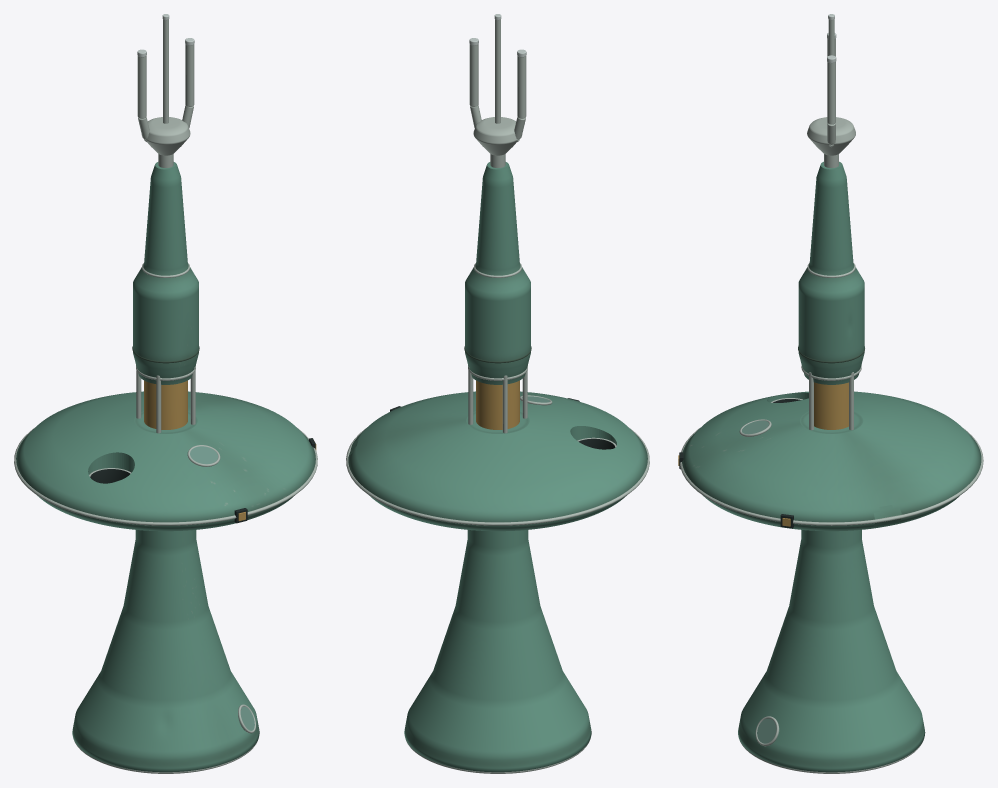
3 views of the same model, side by side, from view 1: azimuth 30°, elevation 25°; view 2: azimuth 150°, elevation 25°; view 3: azimuth 270°, elevation 25° (orthographic).
Visible parts, largest first — view 1: RI07 broad laboratory saucer, RI07 flared mounting pedestal, RI07 segmented green mast, RI07 solid exposed brass neck, RI07 saucer perimeter seam, RI07 silver crown fork bowl, RI07 silver central conductor, RI07 silver outer conductor.002, RI07 silver outer conductor.005; view 2: RI07 broad laboratory saucer, RI07 flared mounting pedestal, RI07 segmented green mast, RI07 solid exposed brass neck, RI07 saucer perimeter seam, RI07 silver crown fork bowl, RI07 silver central conductor, RI07 silver outer conductor.002, RI07 silver outer conductor.005; view 3: RI07 broad laboratory saucer, RI07 flared mounting pedestal, RI07 segmented green mast, RI07 solid exposed brass neck, RI07 saucer perimeter seam, RI07 silver crown fork bowl, RI07 silver outer conductor.005.
Part boxes in pixels (x1,y1,x2,y2): RI07 broad laboratory saucer: (16,391,315,531); RI07 flared mounting pedestal: (72,530,259,772); RI07 segmented green mast: (133,162,198,384); RI07 solid exposed brass neck: (144,380,187,429); RI07 saucer perimeter seam: (14,427,317,525); RI07 silver crown fork bowl: (145,117,190,155); RI07 silver central conductor: (163,19,168,123); RI07 silver outer conductor.002: (137,56,146,118); RI07 silver outer conductor.005: (185,44,194,106); RI07 broad laboratory saucer: (348,391,647,531); RI07 flared mounting pedestal: (404,530,591,772); RI07 segmented green mast: (465,162,530,384); RI07 solid exposed brass neck: (476,380,519,429); RI07 saucer perimeter seam: (346,427,649,525); RI07 silver crown fork bowl: (473,117,518,155); RI07 silver central conductor: (495,19,500,123); RI07 silver outer conductor.002: (517,56,526,118); RI07 silver outer conductor.005: (469,44,478,106); RI07 broad laboratory saucer: (682,391,981,531); RI07 flared mounting pedestal: (738,530,925,772); RI07 segmented green mast: (798,161,864,384); RI07 solid exposed brass neck: (814,382,848,429); RI07 saucer perimeter seam: (680,428,983,525); RI07 silver crown fork bowl: (807,117,855,155); RI07 silver outer conductor.005: (827,62,835,124).
Size of the model in its own units: 2.21 by 5.85 by 2.22.
8 materials, 2 textured.
